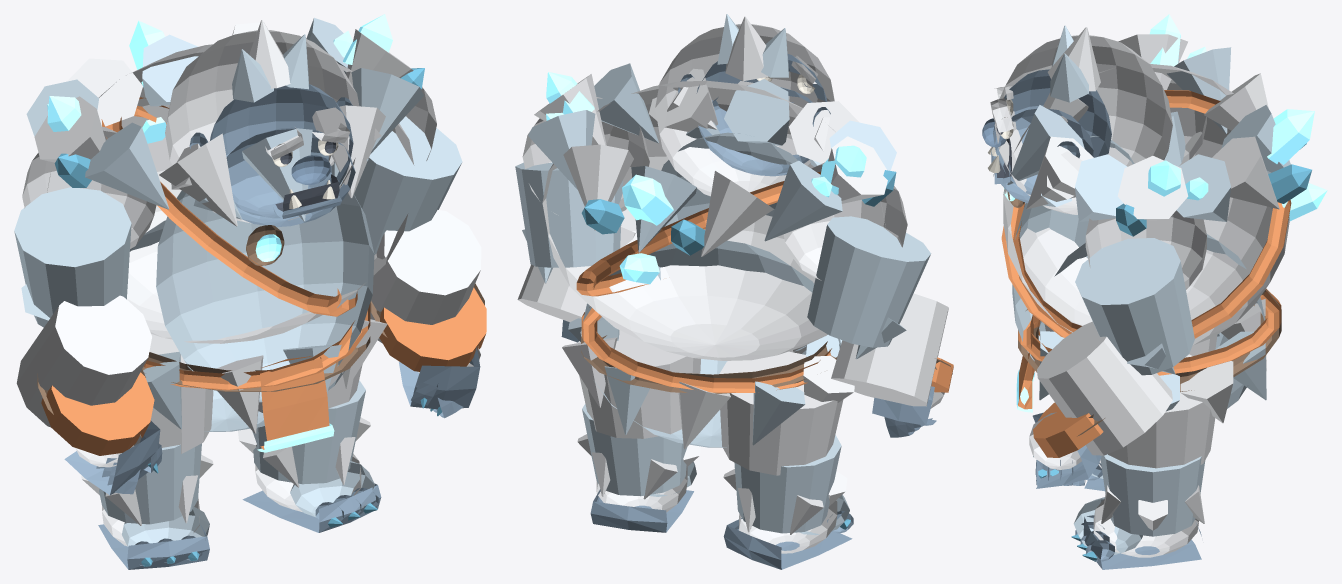
File: yeti_helado.glb
3 renders of one model, left to right at view 1: azimuth 30°, elevation 25°; view 2: azimuth 150°, elevation 25°; view 3: azimuth 270°, elevation 25°, orthographic. The views are drawn at different scales.
Parts seen in each view (by area): view 1: YetiHelado; view 2: YetiHelado; view 3: YetiHelado.
Part boxes in pixels (x1,y1,x2,y2): YetiHelado: (14,14,486,569); YetiHelado: (515,14,953,569); YetiHelado: (982,14,1327,569).
Size of the model in its own units: 1.42 by 1.64 by 1.05.
